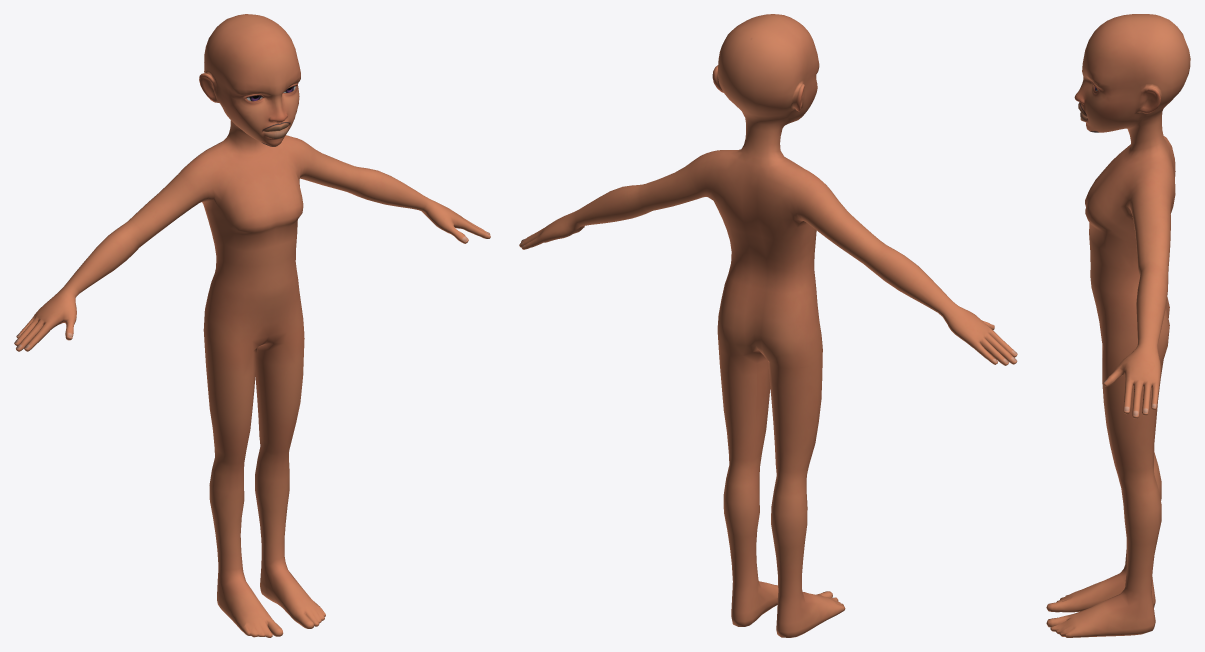
The model's file is frame_0025.glb.
3 views of the same model, side by side, from view 1: azimuth 30°, elevation 25°; view 2: azimuth 150°, elevation 25°; view 3: azimuth 270°, elevation 25° (orthographic). The views are drawn at different scales.
Parts seen in each view (by area): view 1: frame_0025_head_geo; view 2: frame_0025_head_geo; view 3: frame_0025_head_geo.
Part boxes in pixels (<box>): frame_0025_head_geo: <box>14,14,490,637</box>; frame_0025_head_geo: <box>519,14,1017,637</box>; frame_0025_head_geo: <box>1046,14,1190,637</box>.
Size of the model in its own units: 1.28 by 1.5 by 0.3253.
3 materials, 3 textured.
